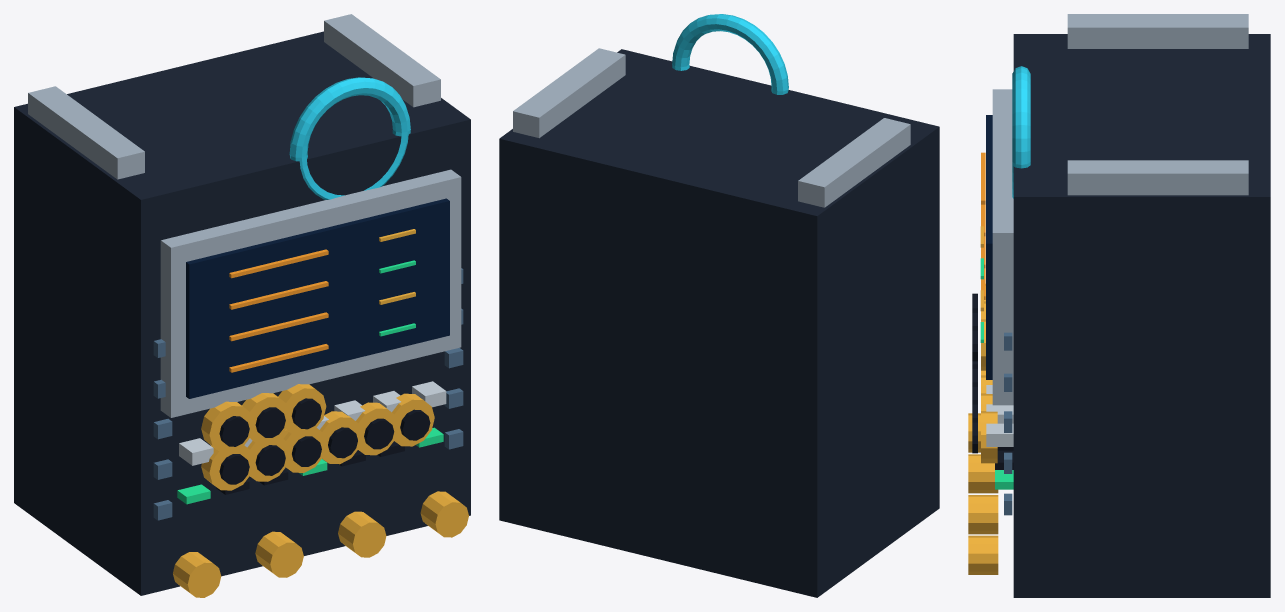
Rendered from 51_L85_DockingCorridorSafetyGuardian.fbx.
3 renders of one model, left to right at view 1: azimuth 30°, elevation 25°; view 2: azimuth 150°, elevation 25°; view 3: azimuth 270°, elevation 25°, orthographic. The views are drawn at different scales.
Visible parts, largest first — view 1: L85_DockingCorridorSafetyGuardian, L85_DockingCorridorSafetyGuardian_Part_0022, L85_DockingCorridorSafetyGuardian_Part_0020, L85_DockingCorridorSafetyGuardian_Part_0010, L85_DockingCorridorSafetyGuardian_Part_0016, L85_DockingCorridorSafetyGuardian_Part_0024, L85_DockingCorridorSafetyGuardian_Part_0018, L85_DockingCorridorSafetyGuardian_Part_0026, L85_DockingCorridorSafetyGuardian_Part_0012, L85_DockingCorridorSafetyGuardian_Part_0014, L85_DockingCorridorSafetyGuardian_Part_0019, L85_DockingCorridorSafetyGuardian_Part_0017 (+7 smaller); view 2: L85_DockingCorridorSafetyGuardian; view 3: L85_DockingCorridorSafetyGuardian, L85_DockingCorridorSafetyGuardian_Part_0020.
Part boxes in pixels (x1,y1,x2,y2): L85_DockingCorridorSafetyGuardian: [14, 14, 470, 597]; L85_DockingCorridorSafetyGuardian_Part_0022: [201, 401, 253, 452]; L85_DockingCorridorSafetyGuardian_Part_0020: [391, 393, 434, 446]; L85_DockingCorridorSafetyGuardian_Part_0010: [201, 444, 253, 490]; L85_DockingCorridorSafetyGuardian_Part_0016: [319, 411, 362, 464]; L85_DockingCorridorSafetyGuardian_Part_0024: [242, 393, 290, 443]; L85_DockingCorridorSafetyGuardian_Part_0018: [356, 402, 397, 455]; L85_DockingCorridorSafetyGuardian_Part_0026: [278, 384, 326, 434]; L85_DockingCorridorSafetyGuardian_Part_0012: [247, 435, 289, 481]; L85_DockingCorridorSafetyGuardian_Part_0014: [283, 426, 325, 472]; L85_DockingCorridorSafetyGuardian_Part_0019: [364, 418, 394, 449]; L85_DockingCorridorSafetyGuardian_Part_0017: [328, 427, 357, 458]; L85_DockingCorridorSafetyGuardian: [499, 14, 939, 597]; L85_DockingCorridorSafetyGuardian: [968, 14, 1270, 597]; L85_DockingCorridorSafetyGuardian_Part_0020: [981, 411, 997, 463].
Size of the model in its own units: 95.88 by 128 by 75.2.
